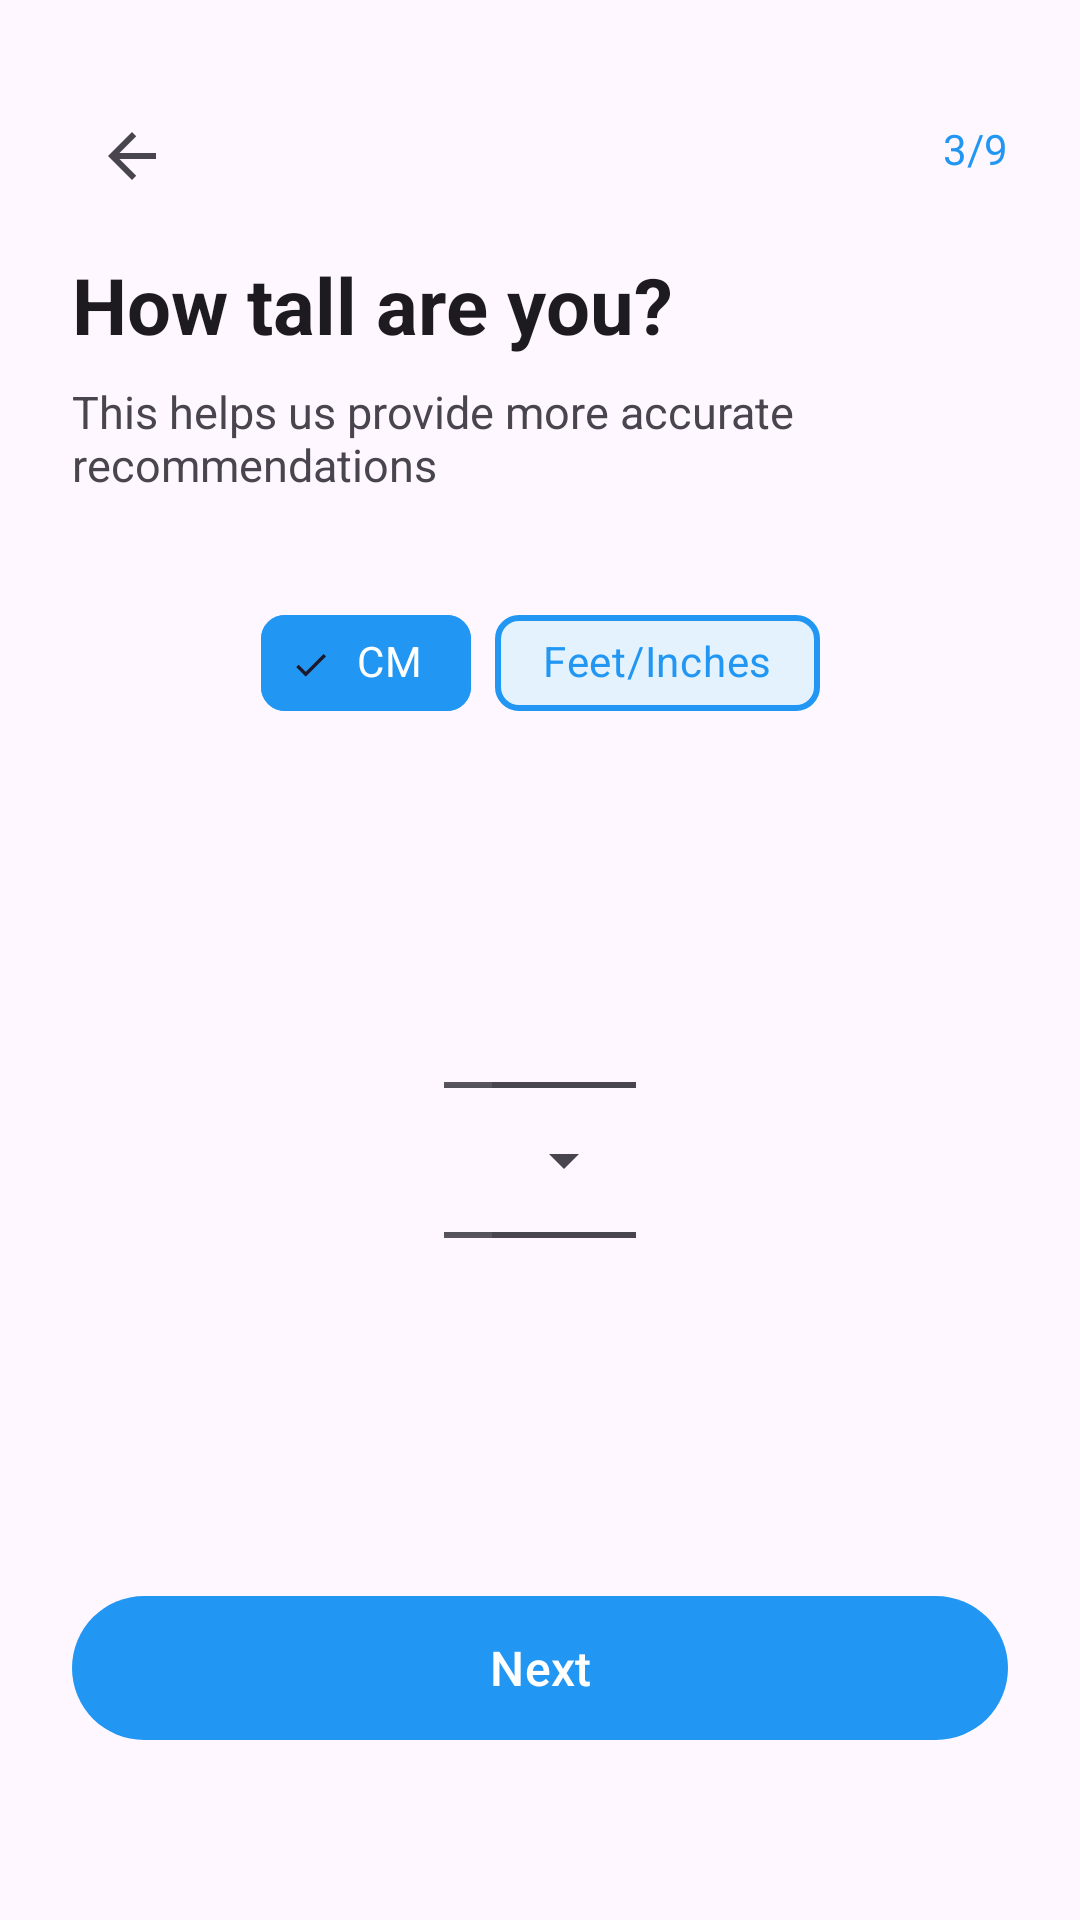

Icons on this 1080x1920 Android screen, each with the point to tap as (x,y):
Go back: (132,156)
